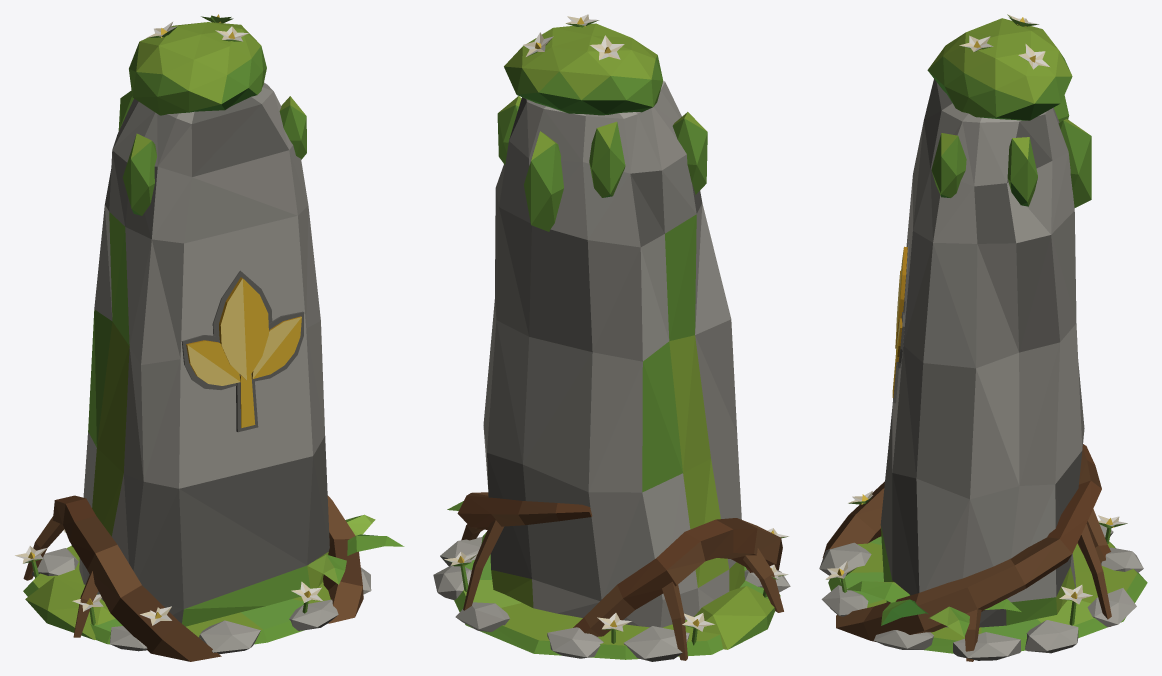
File: guardian_stone.glb
The picture shows the model from 3 angles, left to right: view 1: azimuth 30°, elevation 25°; view 2: azimuth 150°, elevation 25°; view 3: azimuth 270°, elevation 25°; orthographic projection. The views are drawn at different scales.
Visible parts, largest first — view 1: guardian_stone, rune_1, rune_2, rune_3; view 2: guardian_stone; view 3: guardian_stone, rune_1.
Boxes of the visible parts, left/top/right/bottom form: guardian_stone: left=15, top=14, right=404, bottom=661; rune_1: left=219, top=277, right=268, bottom=427; rune_2: left=186, top=340, right=240, bottom=385; rune_3: left=252, top=316, right=301, bottom=379; guardian_stone: left=433, top=14, right=790, bottom=661; guardian_stone: left=819, top=14, right=1147, bottom=661; rune_1: left=892, top=246, right=907, bottom=397.
Size of the model in its own units: 0.9733 by 1.6 by 0.8448.
